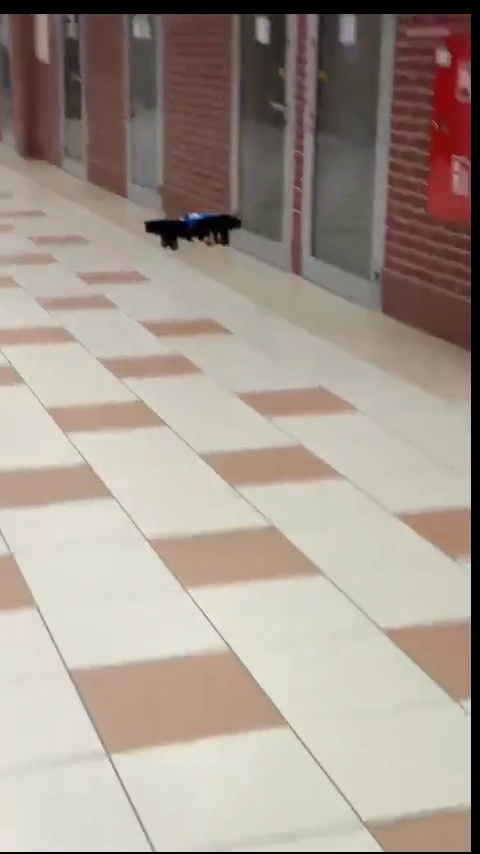drone: (140, 208, 246, 253)
